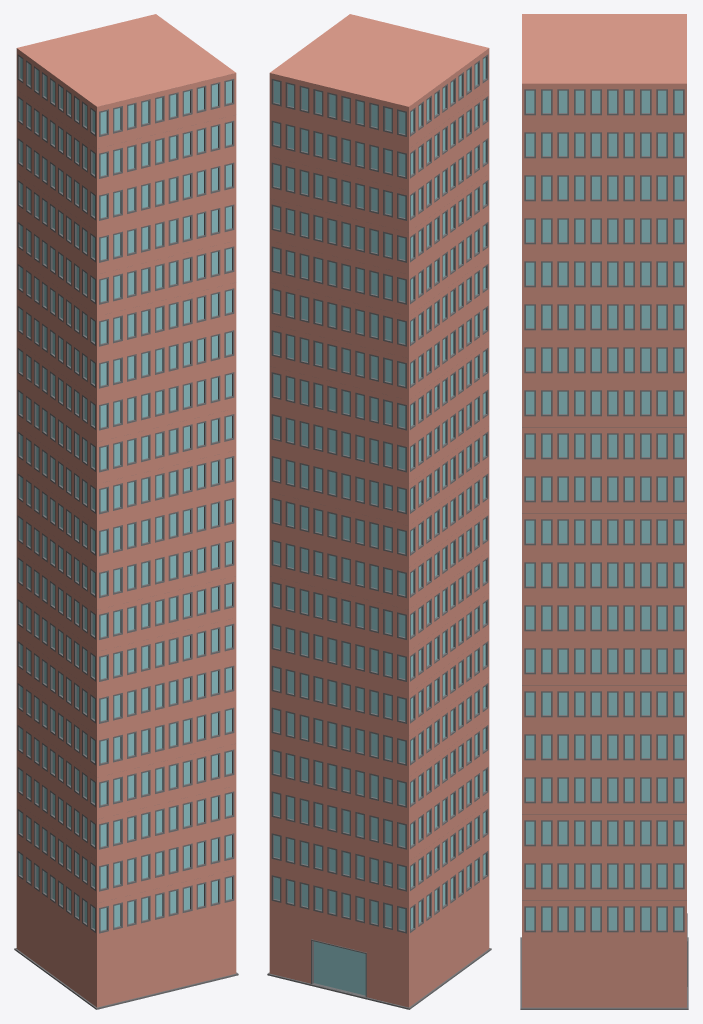
The model's file is skyscraper.fbx.
3 views of the same model, side by side, from view 1: azimuth 30°, elevation 25°; view 2: azimuth 150°, elevation 25°; view 3: azimuth 270°, elevation 25° (orthographic). The views are drawn at different scales.
Visible parts, largest first — view 1: building_002; view 2: building_002; view 3: building_002.
Boxes of the visible parts, <box> form: building_002: <box>14,14,238,1009</box>; building_002: <box>267,14,491,1009</box>; building_002: <box>520,14,688,1009</box>.
Size of the model in its own units: 2920 by 17714 by 2920.
